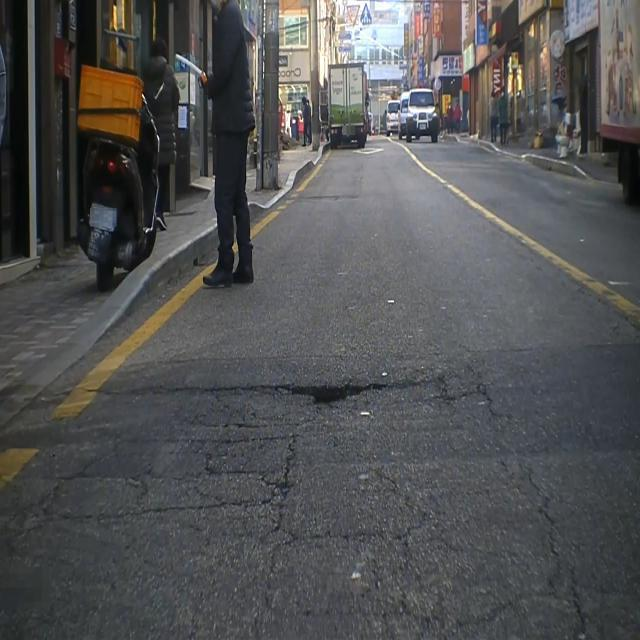pothole: (268, 375, 382, 425)
